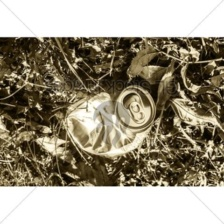can: (60, 83, 160, 163)
